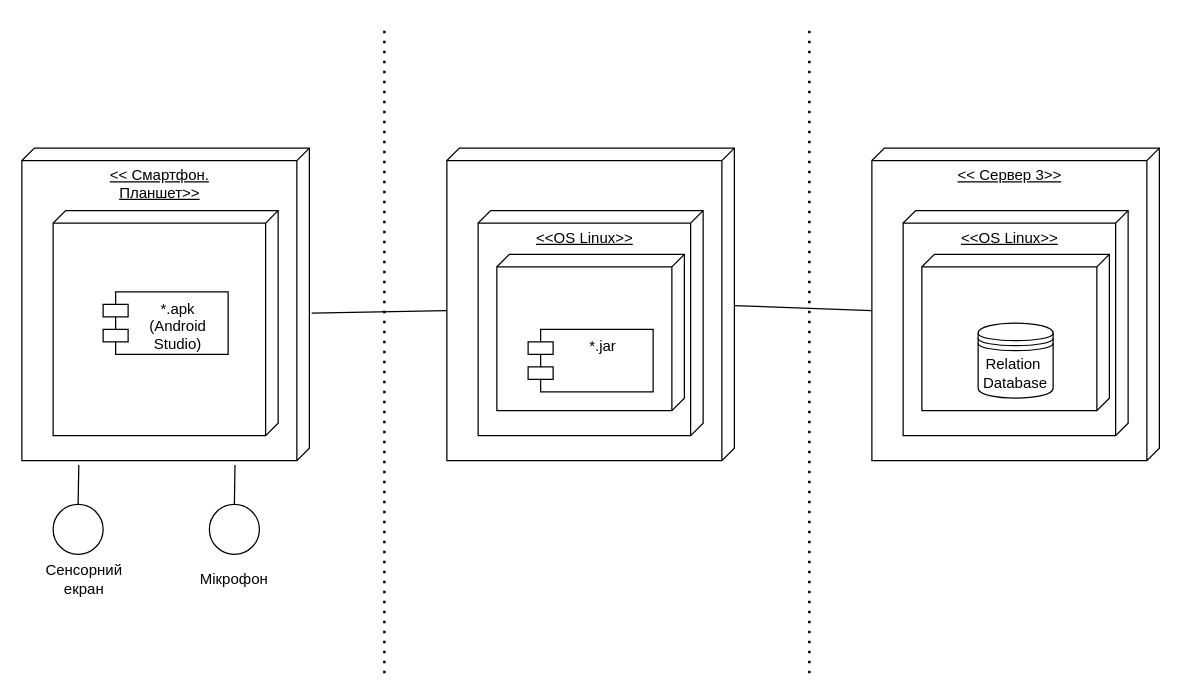
The diagram is 1181 pixels wide and 696 high, and some of its shapes have lost their labels. The shapes that lost their labels are listed below. From the top down, each one's box as (x1, y1, x2, y2) in pixels, then its label:
(52, 209, 278, 436): <<ОS Android>>
(446, 147, 734, 461): << Сервер 1>>
(496, 253, 684, 411): <<Application Server Apache Tomcat>>
(921, 253, 1109, 411): <<Database Server PostgreSQL>>
